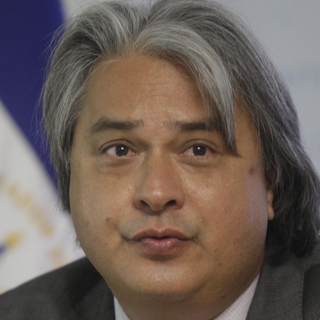eye: (176, 138, 223, 164), (95, 138, 143, 163)
